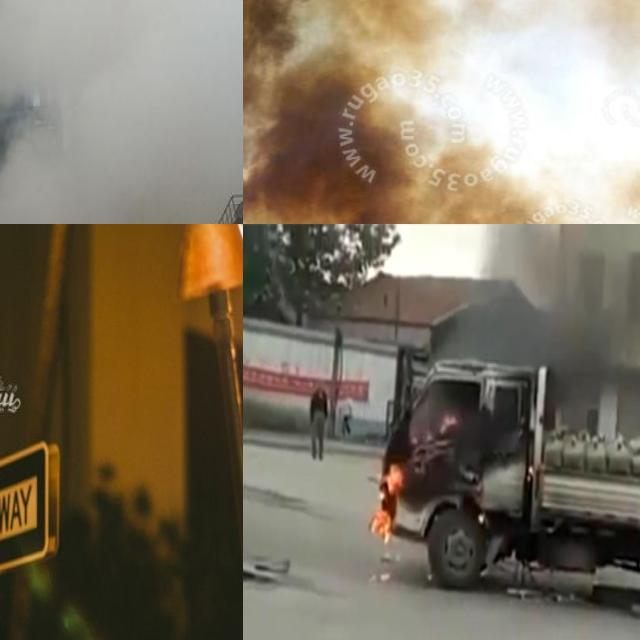fire: (369, 463, 402, 542)
smoke: (243, 0, 640, 224), (420, 225, 640, 446), (108, 0, 243, 188), (0, 140, 53, 224), (0, 0, 41, 92)
